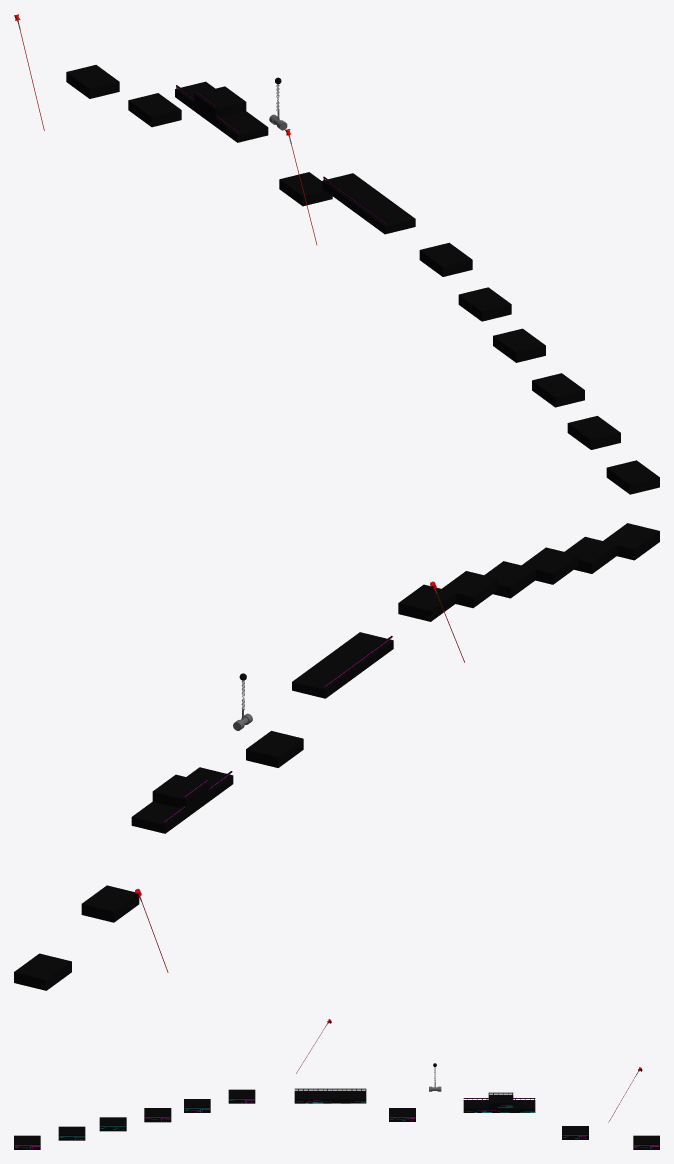
File: parkur.fbx
3 views of the same model, one above another, from view 1: azimuth 30°, elevation 25°; view 2: azimuth 150°, elevation 25°; view 3: azimuth 270°, elevation 25° (orthographic). The views are drawn at different scales.
Visible parts, largest first — view 1: Cube.121; view 2: Cube.121; view 3: Cube.121.
Boxes of the visible parts, <box> form: Cube.121: <box>14,14,659,494</box>; Cube.121: <box>14,523,659,990</box>; Cube.121: <box>14,1019,659,1149</box>.
Bounding box in the file's own units: 645 × 1118 × 6317.
